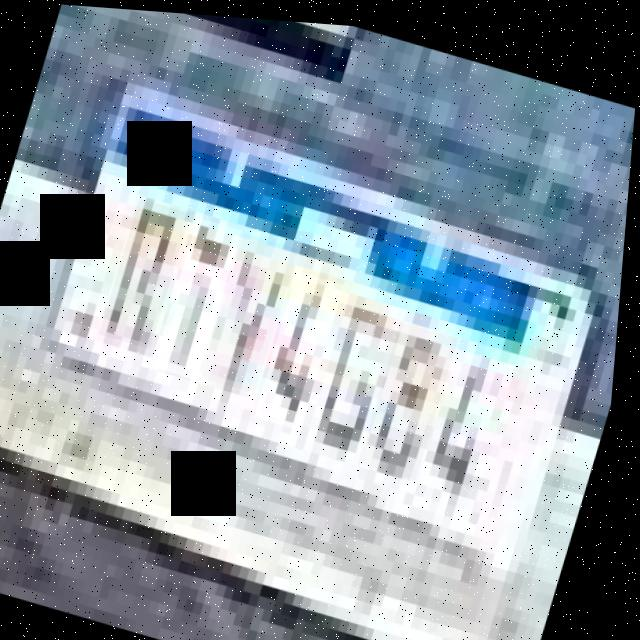4: (423, 343, 518, 504), (260, 264, 349, 427)
8: (364, 313, 463, 475)
G: (310, 282, 414, 461)
R: (104, 194, 194, 347)
T: (158, 212, 245, 379)
Y: (206, 226, 302, 390)
